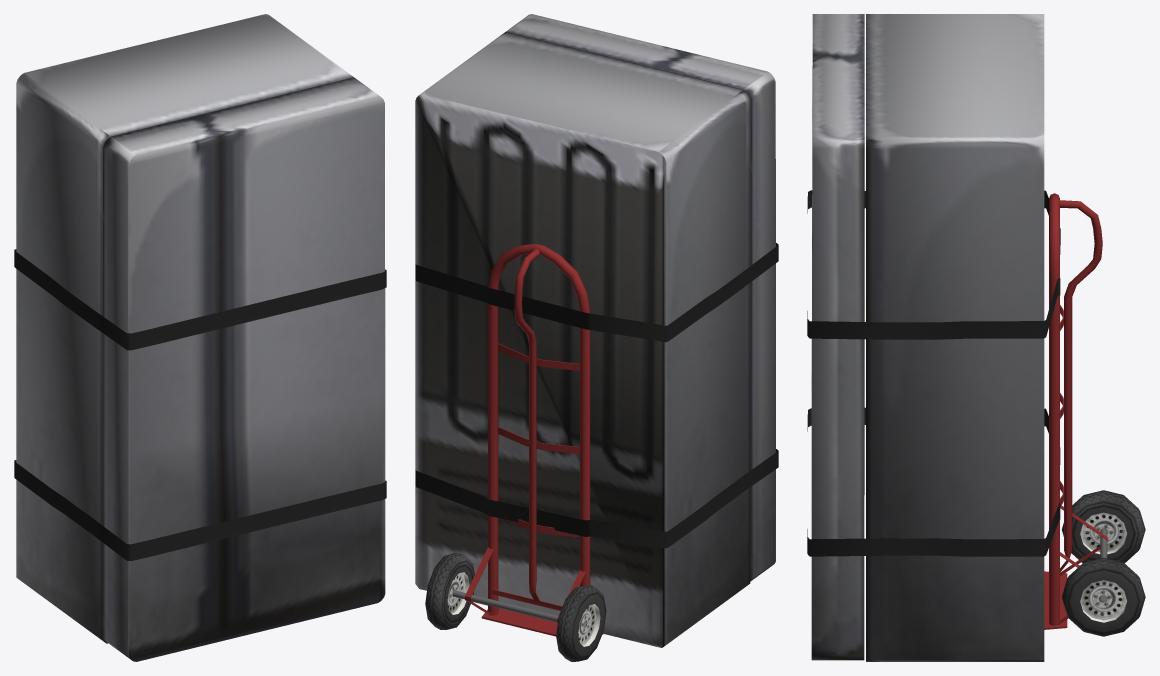
The model's file is PA_Fridge3.fbx.
3 renders of one model, left to right at view 1: azimuth 30°, elevation 25°; view 2: azimuth 150°, elevation 25°; view 3: azimuth 270°, elevation 25°, orthographic. The views are drawn at different scales.
Visible parts, largest first — view 1: PA_Fridge3; view 2: PA_Fridge3; view 3: PA_Fridge3.
Part boxes in pixels (left/top/right/bottom): PA_Fridge3: left=14, top=14, right=386, bottom=661; PA_Fridge3: left=415, top=14, right=778, bottom=661; PA_Fridge3: left=807, top=14, right=1145, bottom=661.
Size of the model in its own units: 0.5512 by 1.04 by 0.6014.
